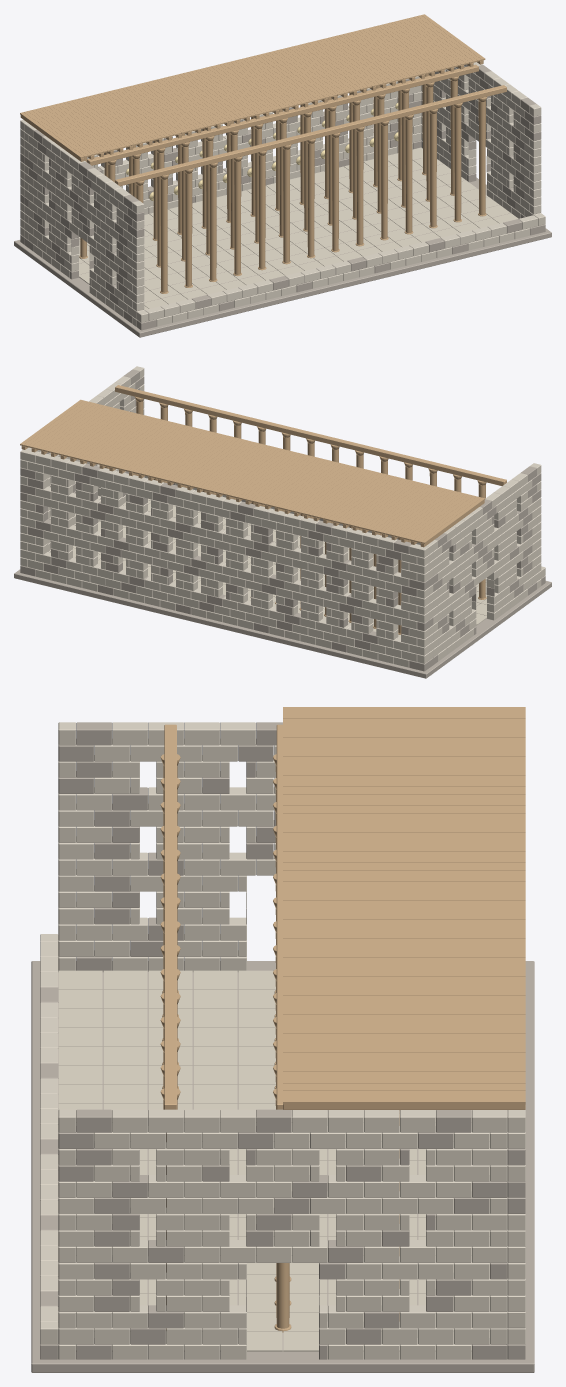
Rendered from forest-house.glb.
The picture shows the model from 3 angles, top to bottom: view 1: azimuth 30°, elevation 25°; view 2: azimuth 150°, elevation 25°; view 3: azimuth 270°, elevation 25°; orthographic projection. The views are drawn at different scales.
Parts seen in each view (by area): view 1: walls, pillars, roof, platform, shields; view 2: walls, roof, pillars, platform; view 3: walls, roof, platform, pillars.
Part boxes in pixels (x1,y1,x2,y2): walls: [20, 62, 545, 330]; pillars: [79, 64, 506, 293]; roof: [20, 14, 485, 161]; platform: [14, 147, 551, 337]; shields: [104, 103, 398, 200]; walls: [20, 366, 545, 671]; roof: [20, 399, 485, 547]; pillars: [80, 385, 506, 634]; platform: [14, 498, 551, 678]; walls: [40, 722, 525, 1359]; roof: [283, 707, 525, 1109]; platform: [31, 961, 534, 1372]; pillars: [160, 724, 399, 1332].
Size of the model in its own units: 106 by 32.8 by 56.
